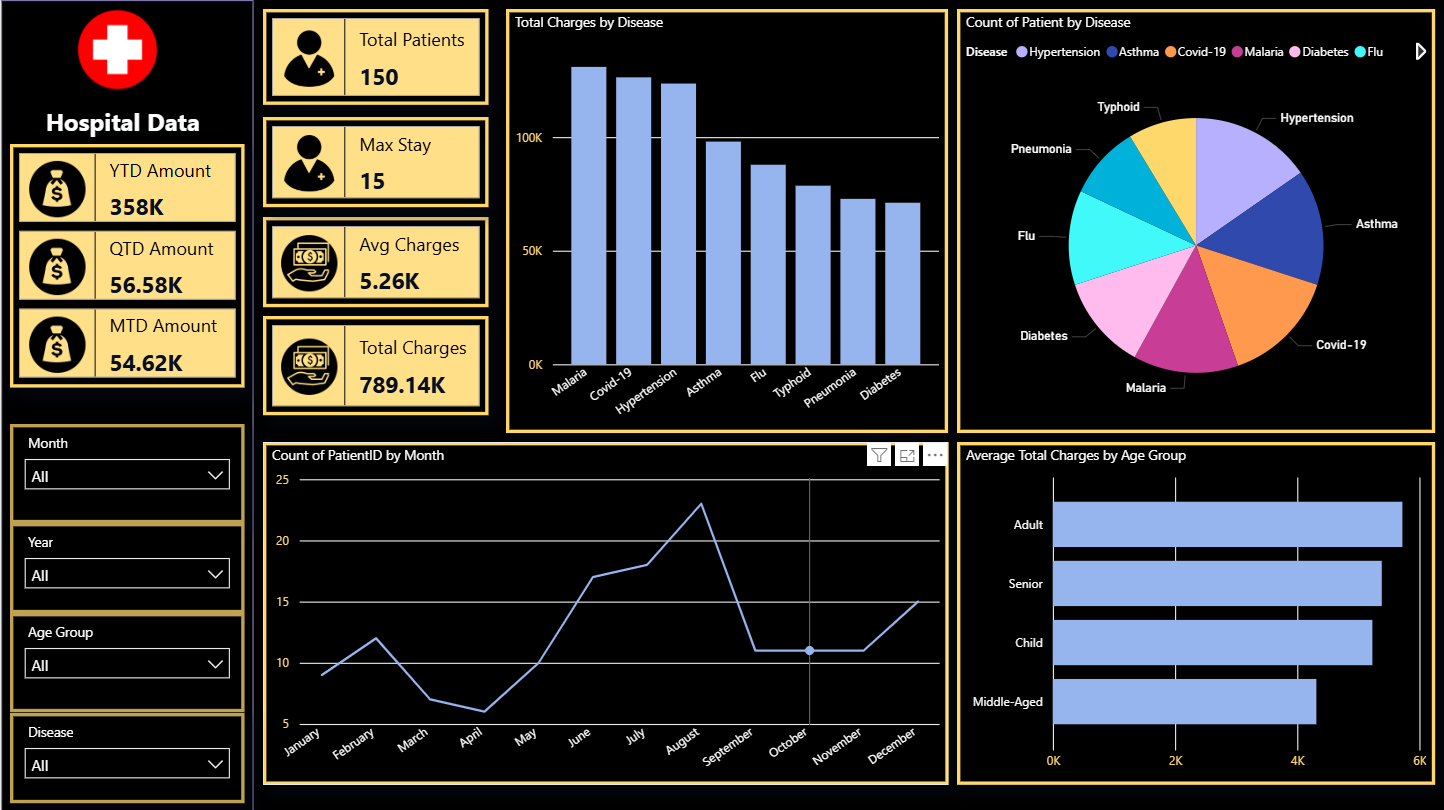

Layout of this report page (visuals, bound fields, positions):
{"tool":"powerbi","page":{"name":"Page 1","canvas":[1280,720],"ordinal":0},"visuals":[{"type":"shape","box":[0,0,224,720],"z":0},{"type":"cardVisual","fields":{"Data":["CountNonNull(Patient data.PatientID)"]},"box":[232,8,200,85],"z":0,"group":"g1"},{"type":"cardVisual","fields":{"Data":["Patient data.Total Charges YTD","Patient data.Total Charges QTD","Patient data.Total Charges MTD"]},"box":[8,128,208,216],"z":1000},{"type":"cardVisual","fields":{"Data":["Patient data.Average Total Charges"]},"box":[232,192,200,80],"z":1000,"group":"g1"},{"type":"slicer","fields":{"Values":["Patient data.AdmitDate.Variation.Date Hierarchy.Month"]},"box":[8,376,208,88],"z":1000,"group":"g2"},{"type":"columnChart","fields":{"Category":["Patient data.Disease"],"Y":["Patient data.Total Charges"]},"box":[448,8,392,376],"z":2000},{"type":"cardVisual","fields":{"Data":["Patient data.Max Stay"]},"box":[232,104,200,80],"z":2000,"group":"g1"},{"type":"slicer","fields":{"Values":["Patient data.Disease"]},"box":[8,632,208,80],"z":2000,"group":"g2"},{"type":"pieChart","fields":{"Category":["Patient data.Disease"],"Y":["Count(Patient data.PatientID)"]},"box":[848,8,424,376],"z":3000},{"type":"slicer","fields":{"Values":["Patient data.AdmitDate.Variation.Date Hierarchy.Year"]},"box":[8,464,208,80],"z":3000,"group":"g2"},{"type":"lineChart","fields":{"Category":["Patient data.AdmitDate.Variation.Date Hierarchy.Month"],"Y":["CountNonNull(Patient data.PatientID)"]},"box":[232,392,608,304],"z":4000},{"type":"barChart","fields":{"Category":["Patient data.Age Group"],"Y":["Patient data.Average Total Charges"]},"box":[848,392,424,304],"z":5000},{"type":"slicer","fields":{"Values":["Patient data.Age Group"]},"box":[8,544,208,88],"z":5000,"group":"g2"},{"type":"group","id":"g1","title":"Group 1","box":[232,8,200,360],"z":6000},{"type":"image","box":[32,0,144,88],"z":7000},{"type":"group","id":"g2","title":"Group 2","box":[8,376,208,336],"z":8000},{"type":"textbox","box":[0,88,216,40],"z":9000},{"type":"cardVisual","fields":{"Data":["Sum(Patient data.TotalCharges)"]},"box":[232,280,200,88],"z":11000,"group":"g1"}]}

Visuals, with their boxes in screenshot pixels (x1, y1, x2, y2), scaled from the page's 1280x720 canvas onto the 1444x810 screenshot:
shape: {"x1": 0, "y1": 0, "x2": 253, "y2": 809}
cardVisual - CountNonNull(Patient data.PatientID): {"x1": 262, "y1": 9, "x2": 487, "y2": 105}
cardVisual - Patient data.Total Charges YTD x Patient data.Total Charges QTD: {"x1": 9, "y1": 144, "x2": 244, "y2": 387}
cardVisual - Patient data.Average Total Charges: {"x1": 262, "y1": 216, "x2": 487, "y2": 306}
slicer - Patient data.AdmitDate.Variation.Date Hierarchy.Month: {"x1": 9, "y1": 423, "x2": 244, "y2": 522}
columnChart - Patient data.Disease x Patient data.Total Charges: {"x1": 505, "y1": 9, "x2": 948, "y2": 432}
cardVisual - Patient data.Max Stay: {"x1": 262, "y1": 117, "x2": 487, "y2": 207}
slicer - Patient data.Disease: {"x1": 9, "y1": 711, "x2": 244, "y2": 801}
pieChart - Patient data.Disease x Count(Patient data.PatientID): {"x1": 957, "y1": 9, "x2": 1435, "y2": 432}
slicer - Patient data.AdmitDate.Variation.Date Hierarchy.Year: {"x1": 9, "y1": 522, "x2": 244, "y2": 612}
lineChart - Patient data.AdmitDate.Variation.Date Hierarchy.Month x CountNonNull(Patient data.PatientID): {"x1": 262, "y1": 441, "x2": 948, "y2": 783}
barChart - Patient data.Age Group x Patient data.Average Total Charges: {"x1": 957, "y1": 441, "x2": 1435, "y2": 783}
slicer - Patient data.Age Group: {"x1": 9, "y1": 612, "x2": 244, "y2": 711}
"Group 1" group: {"x1": 262, "y1": 9, "x2": 487, "y2": 414}
image: {"x1": 36, "y1": 0, "x2": 199, "y2": 99}
"Group 2" group: {"x1": 9, "y1": 423, "x2": 244, "y2": 801}
textbox: {"x1": 0, "y1": 99, "x2": 244, "y2": 144}
cardVisual - Sum(Patient data.TotalCharges): {"x1": 262, "y1": 315, "x2": 487, "y2": 414}
